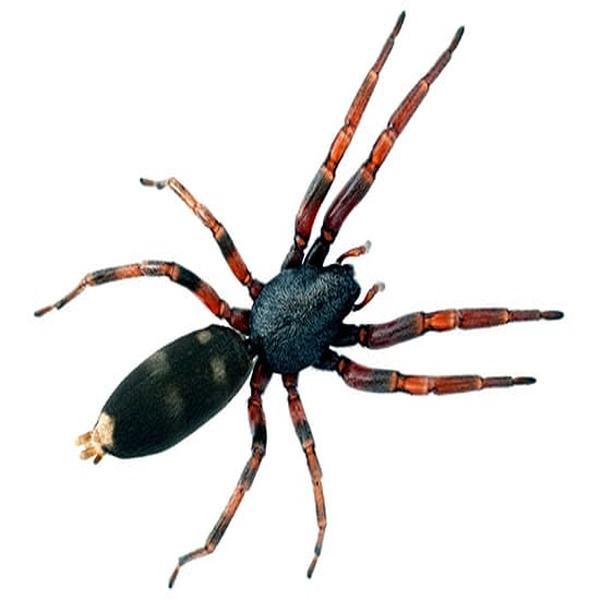White-Tailed_Spider: (31, 9, 563, 580)
